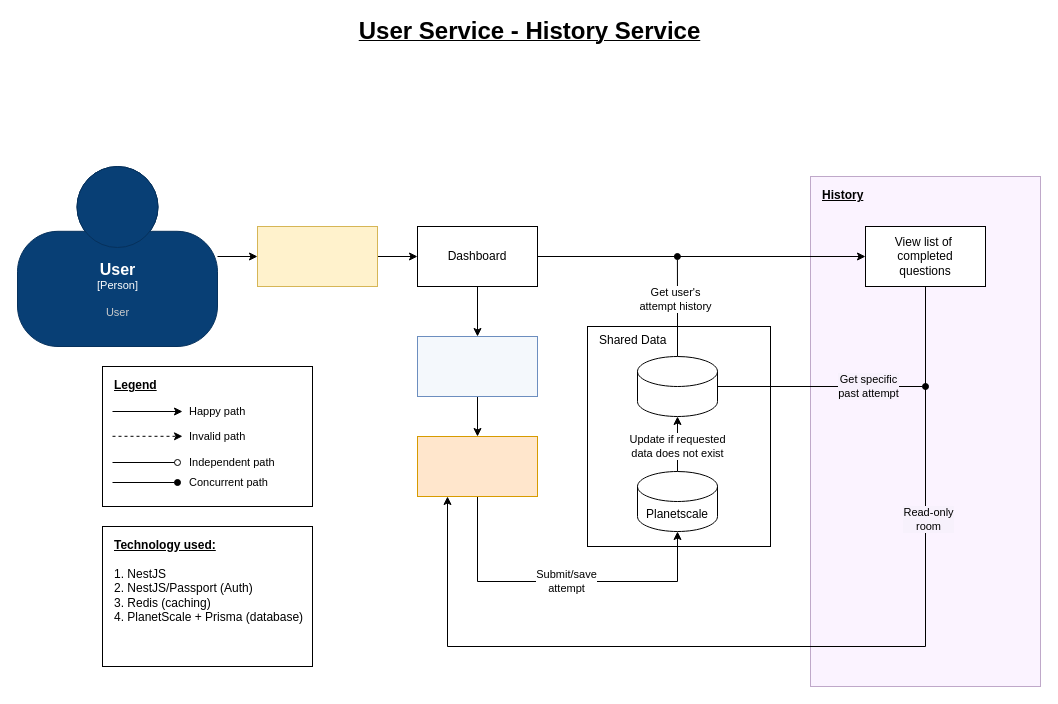
Some shapes in this 1058 by 704 pixel diagram are drawn without their labels. Here are the shapes that lost their labels. From the top down, the centre of each, then its label:
At (x=317, y=256): "Authentication".
At (x=477, y=366): "Matching Service".
At (x=677, y=386): "Redis".
At (x=477, y=466): "Room Service".
